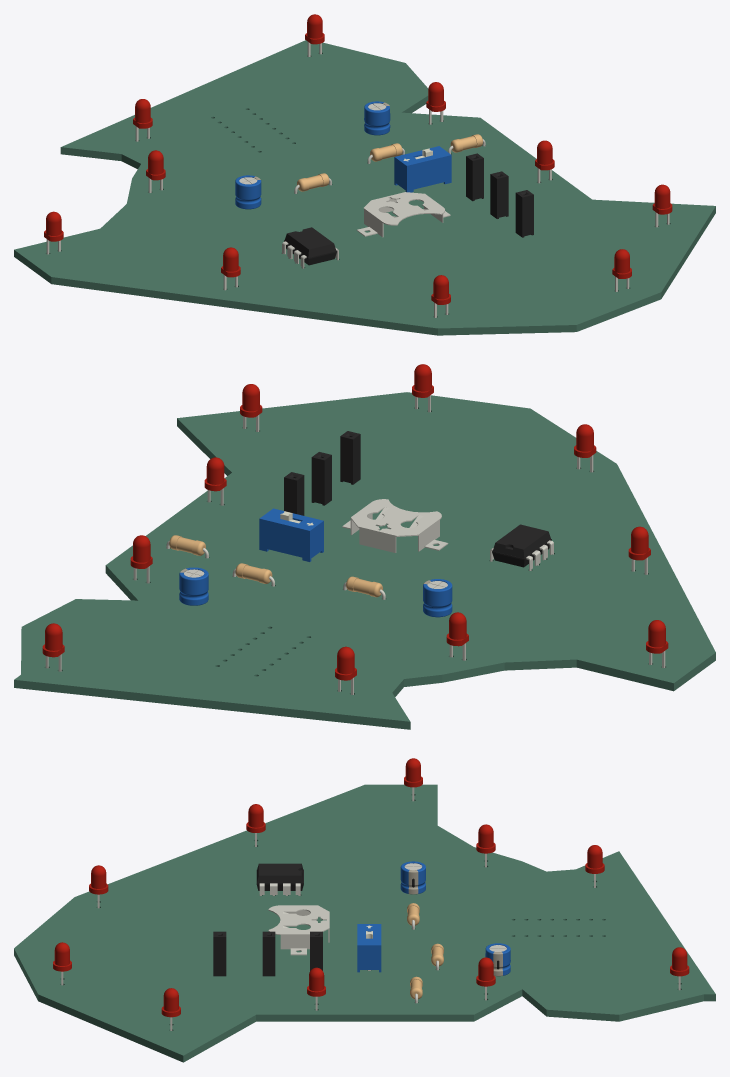
File: Algeria Chaser.glb
3 renders of one model, top to bottom at view 1: azimuth 30°, elevation 25°; view 2: azimuth 150°, elevation 25°; view 3: azimuth 270°, elevation 25°, orthographic. The views are drawn at different scales.
Visible parts, largest first — view 1: =>[0:1:1:9], BT2, SW1, U1, C1, C3, TP2, TP3, TP1, D5, D2, D4 (+7 smaller); view 2: =>[0:1:1:9], BT2, SW1, U1, C3, C1, TP2, TP3, TP1, D4, D8, D7 (+10 smaller); view 3: =>[0:1:1:9], BT2, U1, SW1, C1, C3, TP3, TP2, D7, D2, D5, D6 (+7 smaller).
Part boxes in pixels (x1,y1,x2,y2): =>[0:1:1:9]: (14, 40, 715, 335); BT2: (356, 192, 450, 237); SW1: (394, 146, 451, 192); U1: (282, 227, 338, 268); C1: (235, 175, 261, 209); C3: (364, 101, 390, 135); TP2: (490, 171, 508, 218); TP3: (515, 190, 533, 237); TP1: (466, 153, 483, 201); D5: (652, 184, 672, 227); D2: (305, 14, 324, 56); D4: (535, 140, 554, 183); =>[0:1:1:9]: (14, 392, 715, 729); BT2: (342, 499, 448, 552); SW1: (259, 508, 323, 561); U1: (490, 524, 553, 570); C3: (179, 567, 208, 605); C1: (423, 579, 452, 617); TP2: (311, 452, 331, 505); TP3: (340, 431, 360, 484); TP1: (284, 472, 304, 515); D4: (204, 457, 226, 505); D8: (628, 526, 650, 574); D7: (574, 424, 596, 472); =>[0:1:1:9]: (14, 784, 715, 1062); BT2: (268, 905, 329, 955); U1: (256, 863, 303, 895); SW1: (357, 924, 381, 972); C1: (400, 861, 425, 894); C3: (485, 943, 510, 976); TP3: (213, 931, 226, 976); TP2: (262, 931, 275, 976); D7: (89, 865, 108, 908); D2: (670, 947, 689, 990); D5: (161, 988, 180, 1030); D6: (53, 942, 71, 985).
Size of the model in its own units: 0.1262 by 0.0118 by 0.1381.
